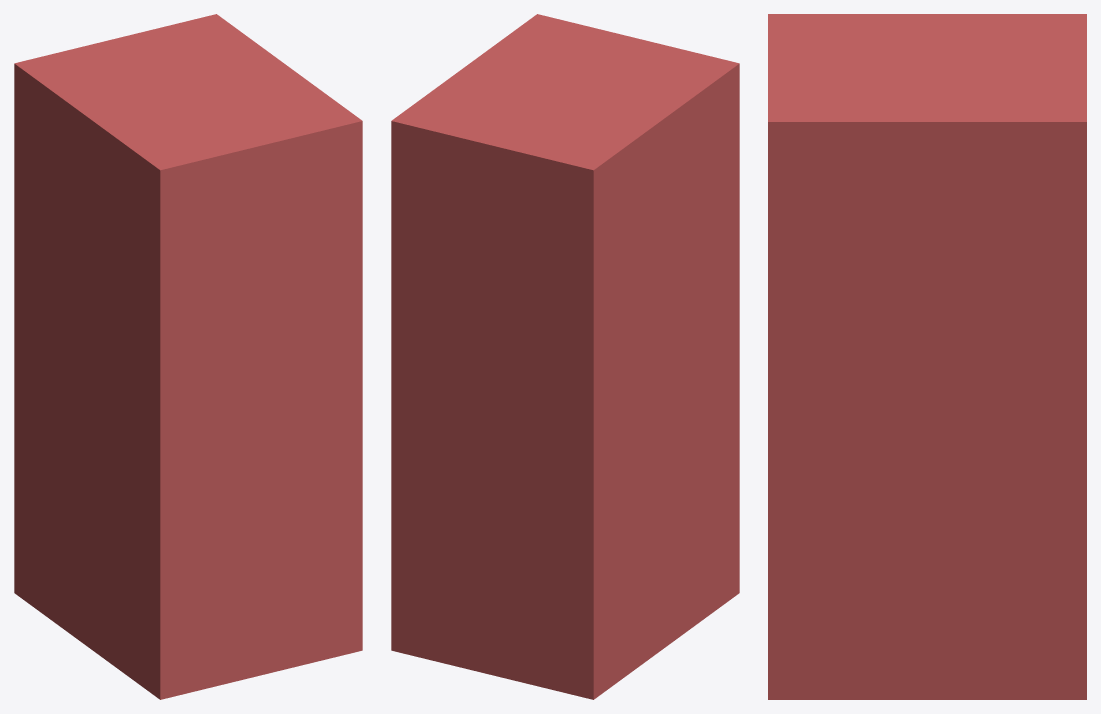
3 renders of one model, left to right at view 1: azimuth 30°, elevation 25°; view 2: azimuth 150°, elevation 25°; view 3: azimuth 270°, elevation 25°, orthographic. The views are drawn at different scales.
Visible parts, largest first — view 1: pCube1; view 2: pCube1; view 3: pCube1.
Part boxes in pixels (x1,y1,x2,y2): pCube1: (14, 14, 362, 699); pCube1: (391, 14, 739, 699); pCube1: (768, 14, 1086, 699).
Size of the model in its own units: 2 by 5 by 2.5.
